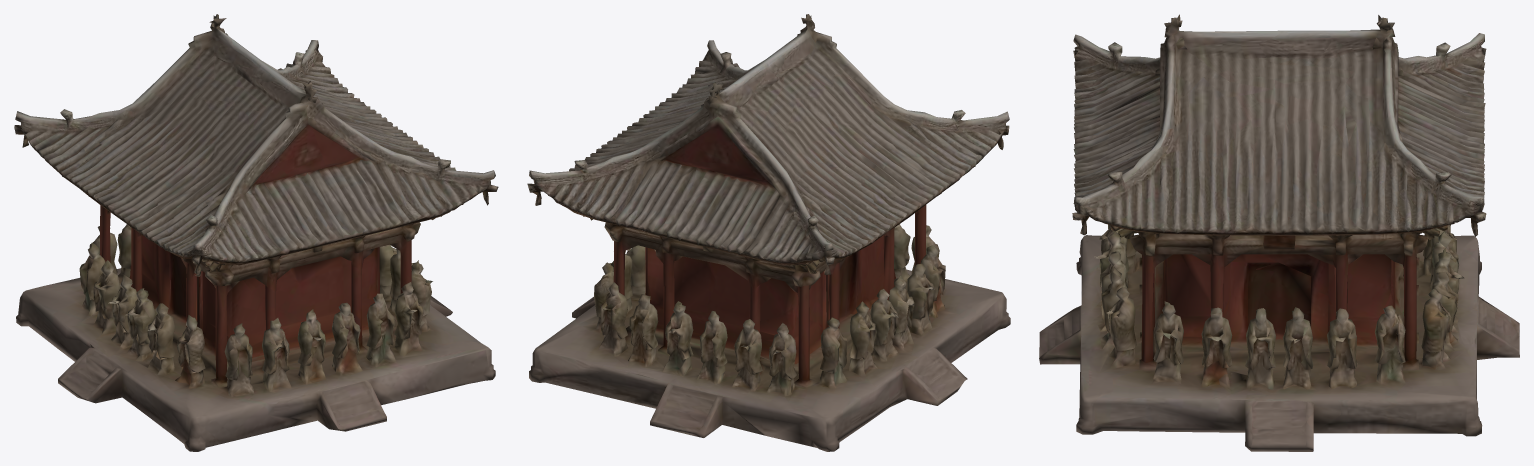
File: building-chongqingsi.glb
3 views of the same model, side by side, from view 1: azimuth 30°, elevation 25°; view 2: azimuth 150°, elevation 25°; view 3: azimuth 270°, elevation 25° (orthographic). The views are drawn at different scales.
Visible parts, largest first — view 1: node_14d49f55-8e4a-4786-bd18-1b01b59b1650; view 2: node_14d49f55-8e4a-4786-bd18-1b01b59b1650; view 3: node_14d49f55-8e4a-4786-bd18-1b01b59b1650.
Boxes of the visible parts, bbox=[...] form: node_14d49f55-8e4a-4786-bd18-1b01b59b1650: bbox=[14, 14, 498, 451]; node_14d49f55-8e4a-4786-bd18-1b01b59b1650: bbox=[527, 14, 1010, 451]; node_14d49f55-8e4a-4786-bd18-1b01b59b1650: bbox=[1039, 14, 1519, 451].
Size of the model in its own units: 0.9907 by 0.7805 by 1.
1 material, 1 textured.
